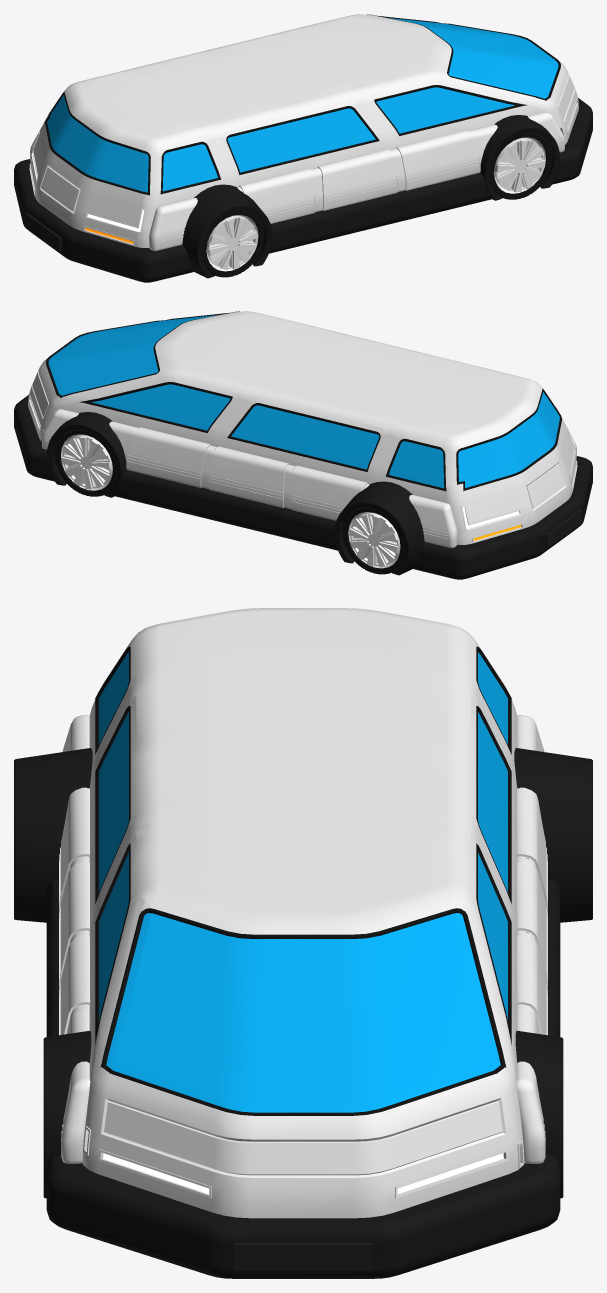
File: bus.gltf
3 renders of one model, top to bottom at view 1: azimuth 30°, elevation 25°; view 2: azimuth 150°, elevation 25°; view 3: azimuth 270°, elevation 25°, orthographic. The views are drawn at different scales.
Parts seen in each view (by area): view 1: geo1; view 2: geo1; view 3: geo1.
Part boxes in pixels (<box>): geo1: <box>14,14,592,282</box>; geo1: <box>14,311,592,579</box>; geo1: <box>14,608,592,1278</box>.
Size of the model in its own units: 5.04 by 1.13 by 2.46.
